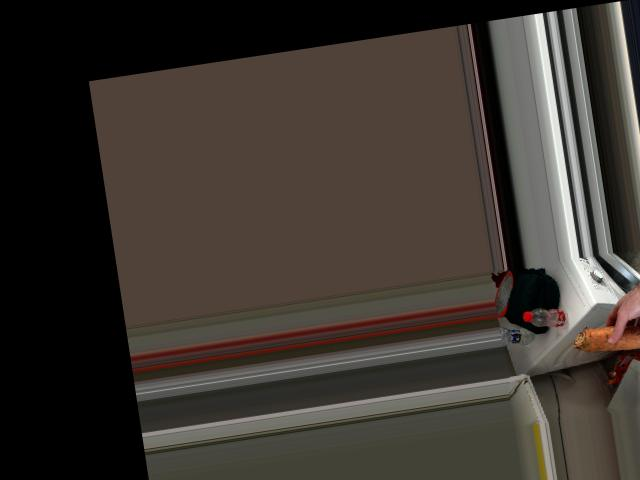sweet_potato: (568, 320, 640, 356)
